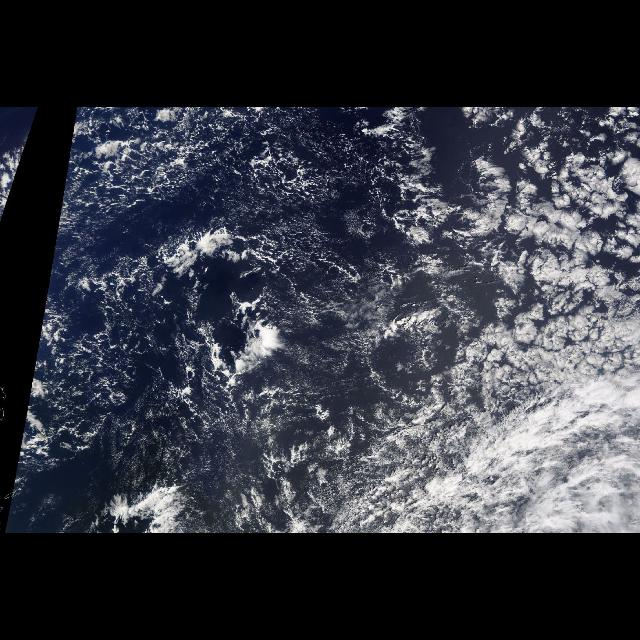Flower: (433, 138, 639, 430)
Gravel: (17, 109, 451, 455), (10, 108, 38, 194)
Sugar: (206, 256, 390, 442)
